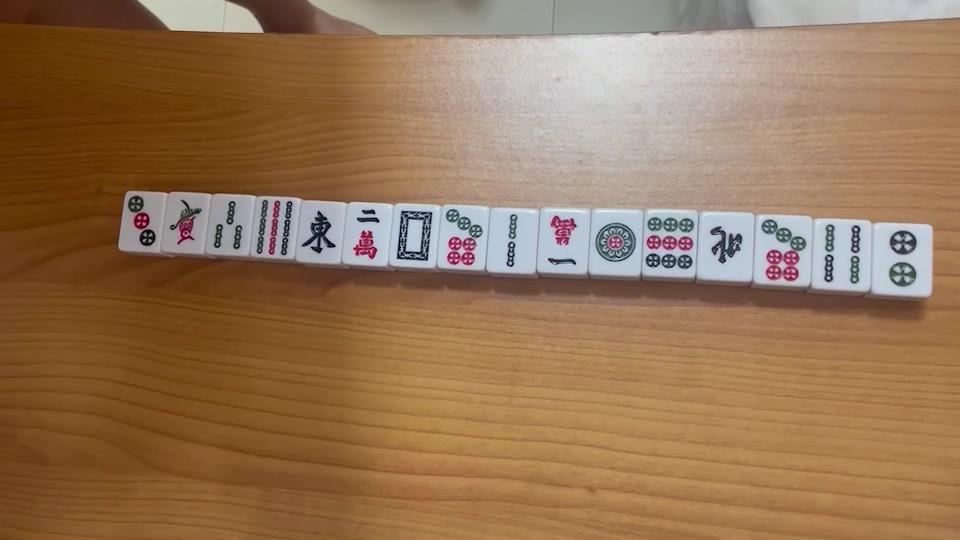b-1: (165, 195, 202, 248)
b-2: (494, 213, 528, 269)
b-3: (212, 200, 244, 253)
b-4: (820, 223, 863, 287)
b-9: (643, 215, 694, 273), (250, 198, 298, 256)
c-1: (541, 211, 584, 268)
c-2: (346, 206, 384, 260)
d-1: (594, 222, 638, 264)
d-2: (884, 228, 922, 288)
d-3: (125, 192, 157, 246)
d-7: (760, 219, 806, 284), (439, 208, 486, 267)
honors-east: (302, 210, 337, 256)
honors-north: (703, 220, 748, 267)
honors-white: (393, 207, 434, 264)
